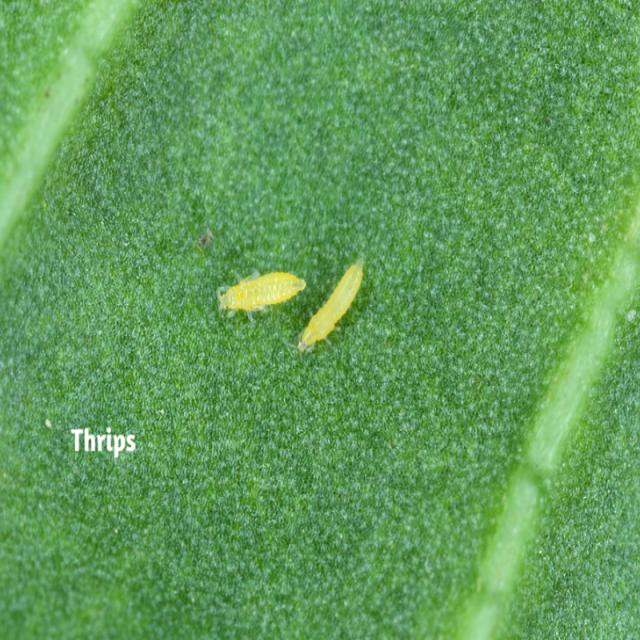Thrip-Larva-: (294, 250, 383, 366), (203, 255, 314, 326)
